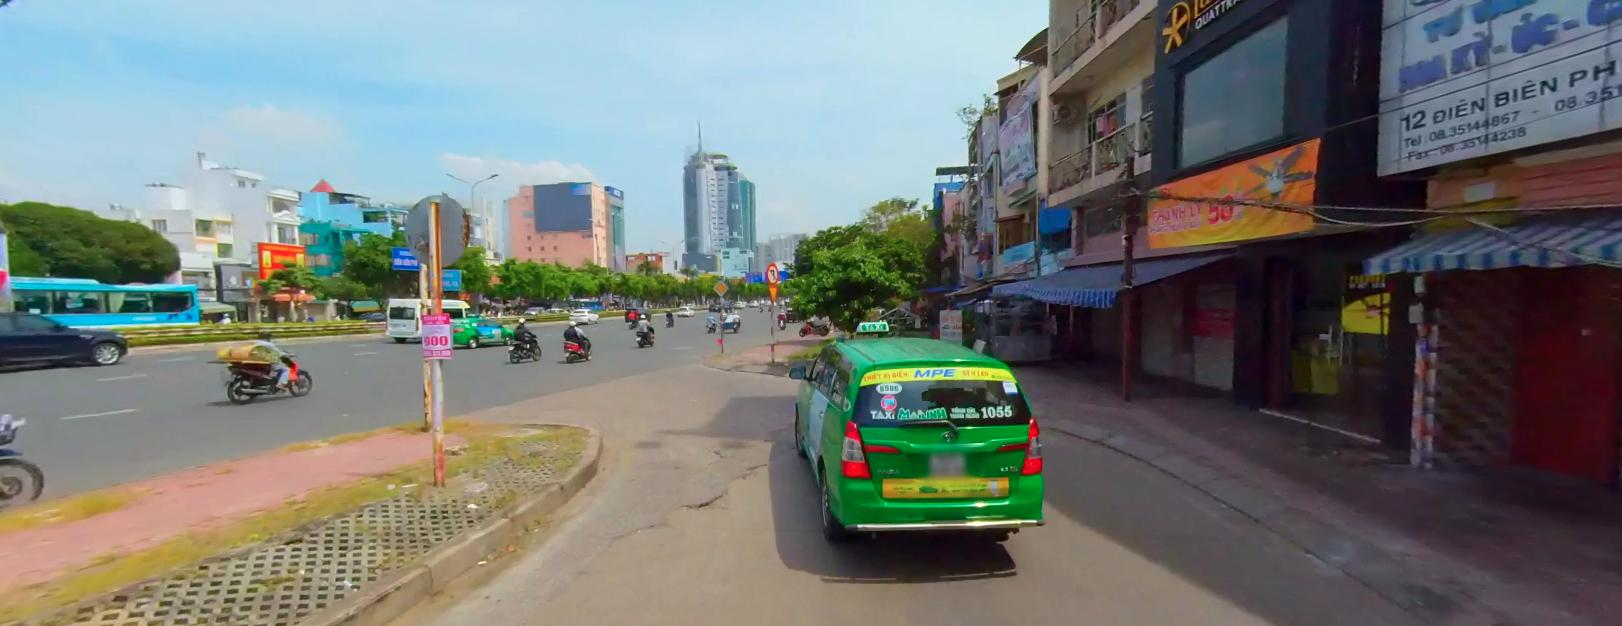Cam re: (765, 261, 778, 282)
Nguy hiem: (767, 284, 778, 302)
